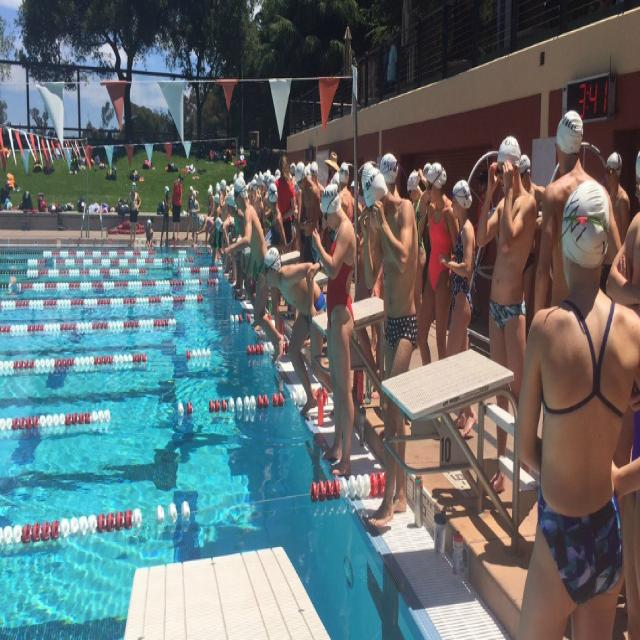body: (0, 121, 492, 296), (506, 174, 639, 638), (226, 295, 481, 401), (470, 130, 539, 506), (354, 161, 420, 536), (533, 108, 622, 321), (302, 179, 358, 481), (261, 245, 331, 420), (438, 179, 478, 439), (416, 161, 460, 366), (613, 373, 640, 638), (518, 154, 546, 346), (600, 149, 631, 294), (605, 208, 639, 318), (379, 29, 400, 104)
